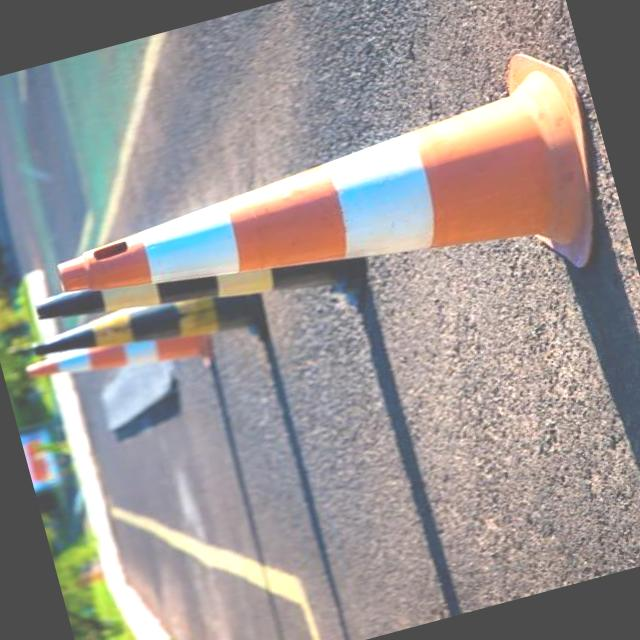cone: (17, 53, 621, 396)
